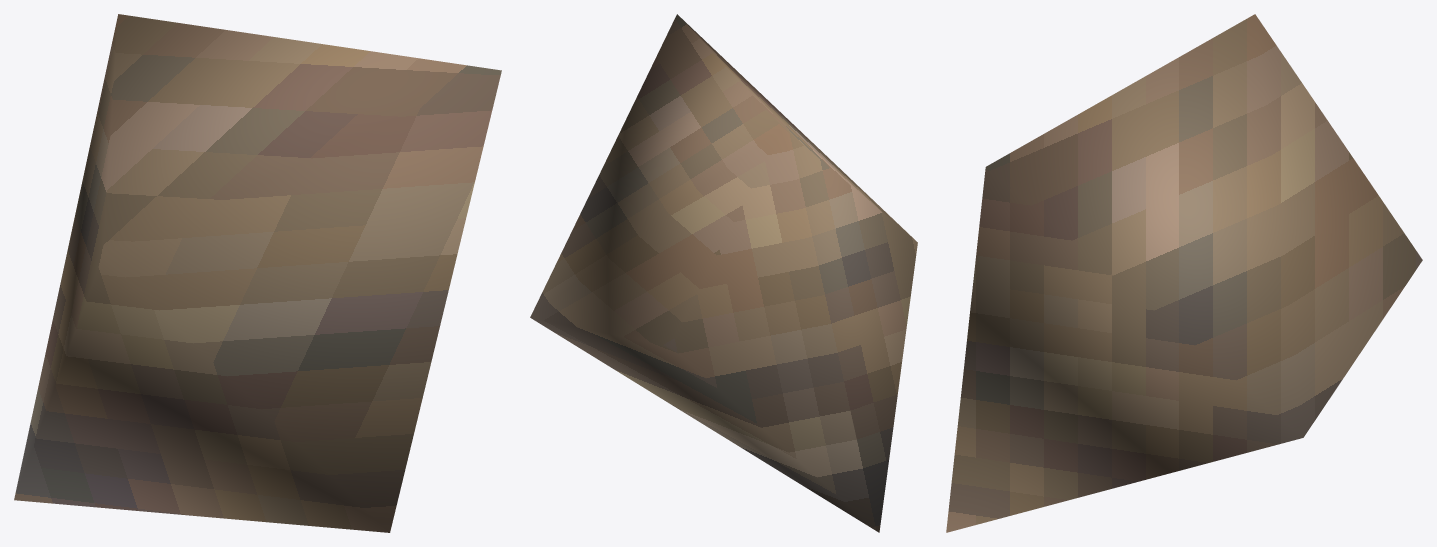
File: DrillRock5_Anim.glb
The picture shows the model from 3 angles, left to right: view 1: azimuth 30°, elevation 25°; view 2: azimuth 150°, elevation 25°; view 3: azimuth 270°, elevation 25°; orthographic projection. The views are drawn at different scales.
Visible parts, largest first — view 1: DrillRock5_Anim; view 2: DrillRock5_Anim; view 3: DrillRock5_Anim.
Part boxes in pixels (x1,y1,x2,y2): DrillRock5_Anim: (14,14,501,532); DrillRock5_Anim: (530,14,917,532); DrillRock5_Anim: (946,14,1422,532).
Size of the model in its own units: 5.77 by 6.55 by 5.98.
1 material, 1 textured.
